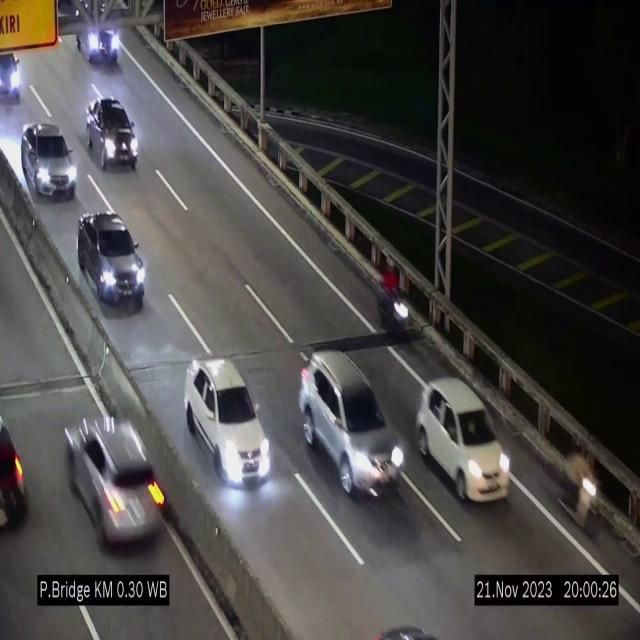Car: (299, 352, 405, 498), (416, 378, 512, 501), (184, 358, 272, 483), (78, 210, 146, 308), (84, 95, 140, 173), (22, 121, 76, 199)
Motorcycle: (562, 428, 603, 548), (375, 252, 409, 340)
